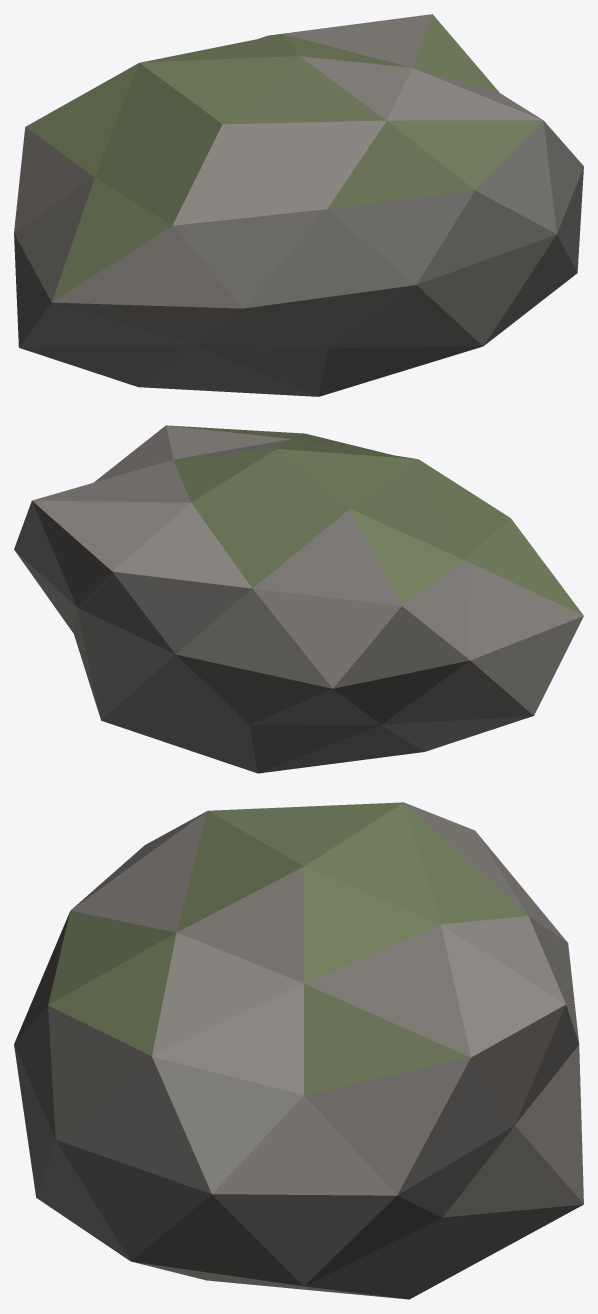
Rendered from rock_1.glb.
3 views of the same model, one above another, from view 1: azimuth 30°, elevation 25°; view 2: azimuth 150°, elevation 25°; view 3: azimuth 270°, elevation 25° (orthographic). The views are drawn at different scales.
Parts seen in each view (by area): view 1: rock_1; view 2: rock_1; view 3: rock_1.
Boxes of the visible parts, x1,y1,x2,y2 form: rock_1: (14, 14, 583, 396); rock_1: (14, 425, 583, 773); rock_1: (14, 802, 583, 1299).
Bounding box in the file's own units: 2.52 × 1.3 × 1.86.
